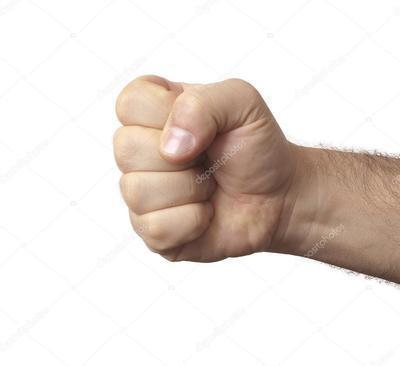closedhandfront: (97, 50, 307, 280)
